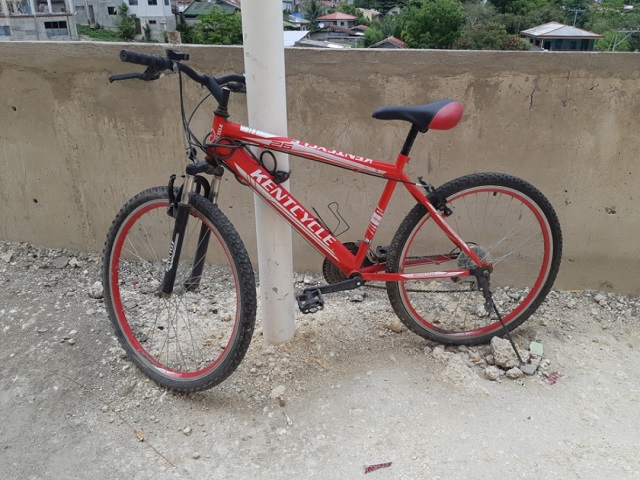bike: (101, 46, 563, 396)
pole: (241, 1, 305, 346)
